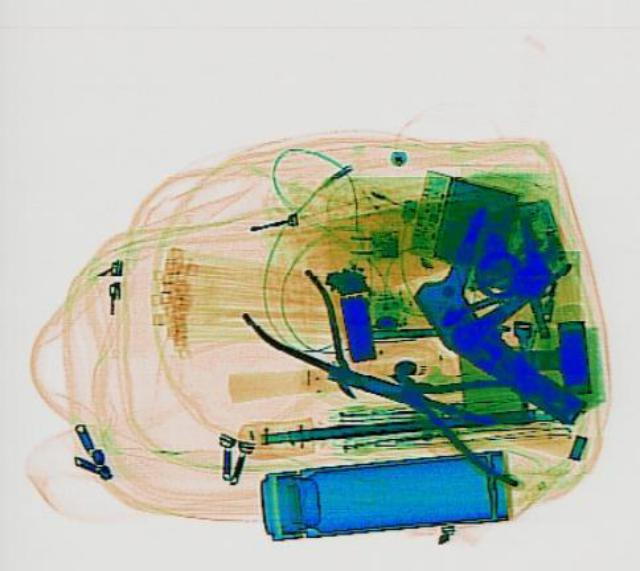Pliers: (356, 330, 572, 487), (230, 265, 394, 414)
